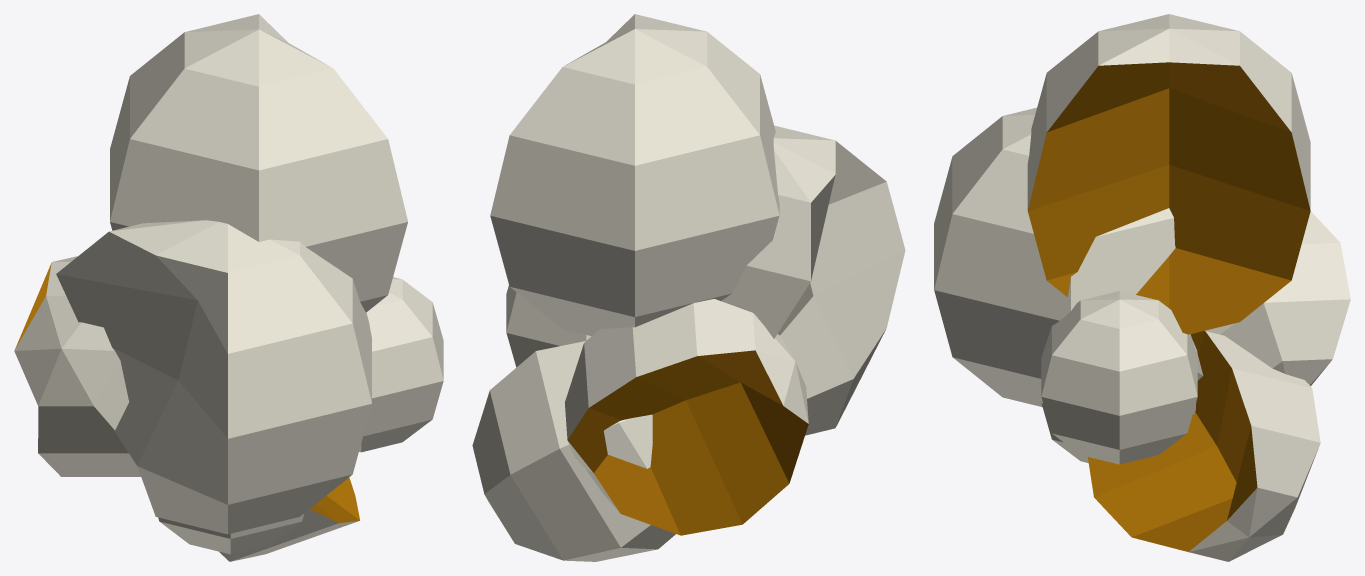
File: popcorn.fbx
The picture shows the model from 3 angles, left to right: view 1: azimuth 30°, elevation 25°; view 2: azimuth 150°, elevation 25°; view 3: azimuth 270°, elevation 25°; orthographic projection. The views are drawn at different scales.
Visible parts, largest first — view 1: pSphere1, pSphere2, pSphere4, pSphere5, pSphere3, pSphere6; view 2: pSphere2, pSphere4, pSphere1, pSphere3, pSphere5; view 3: pSphere2, pSphere1, pSphere3, pSphere5, pSphere4.
Part boxes in pixels (x1,y1,x2,y2): pSphere1: (56, 220, 371, 534); pSphere2: (110, 14, 407, 312); pSphere4: (14, 256, 140, 476); pSphere5: (359, 277, 443, 452); pSphere3: (219, 477, 359, 561); pSphere6: (158, 513, 304, 554); pSphere2: (490, 14, 779, 335); pSphere4: (565, 299, 808, 535); pSphere1: (721, 125, 905, 435); pSphere3: (472, 341, 675, 561); pSphere5: (506, 285, 591, 367); pSphere2: (1027, 14, 1310, 334); pSphere1: (934, 107, 1175, 406); pSphere3: (1087, 330, 1320, 561); pSphere5: (1041, 291, 1197, 464); pSphere4: (1192, 211, 1350, 385).
Size of the model in its own units: 4.26 by 6.16 by 4.52.
